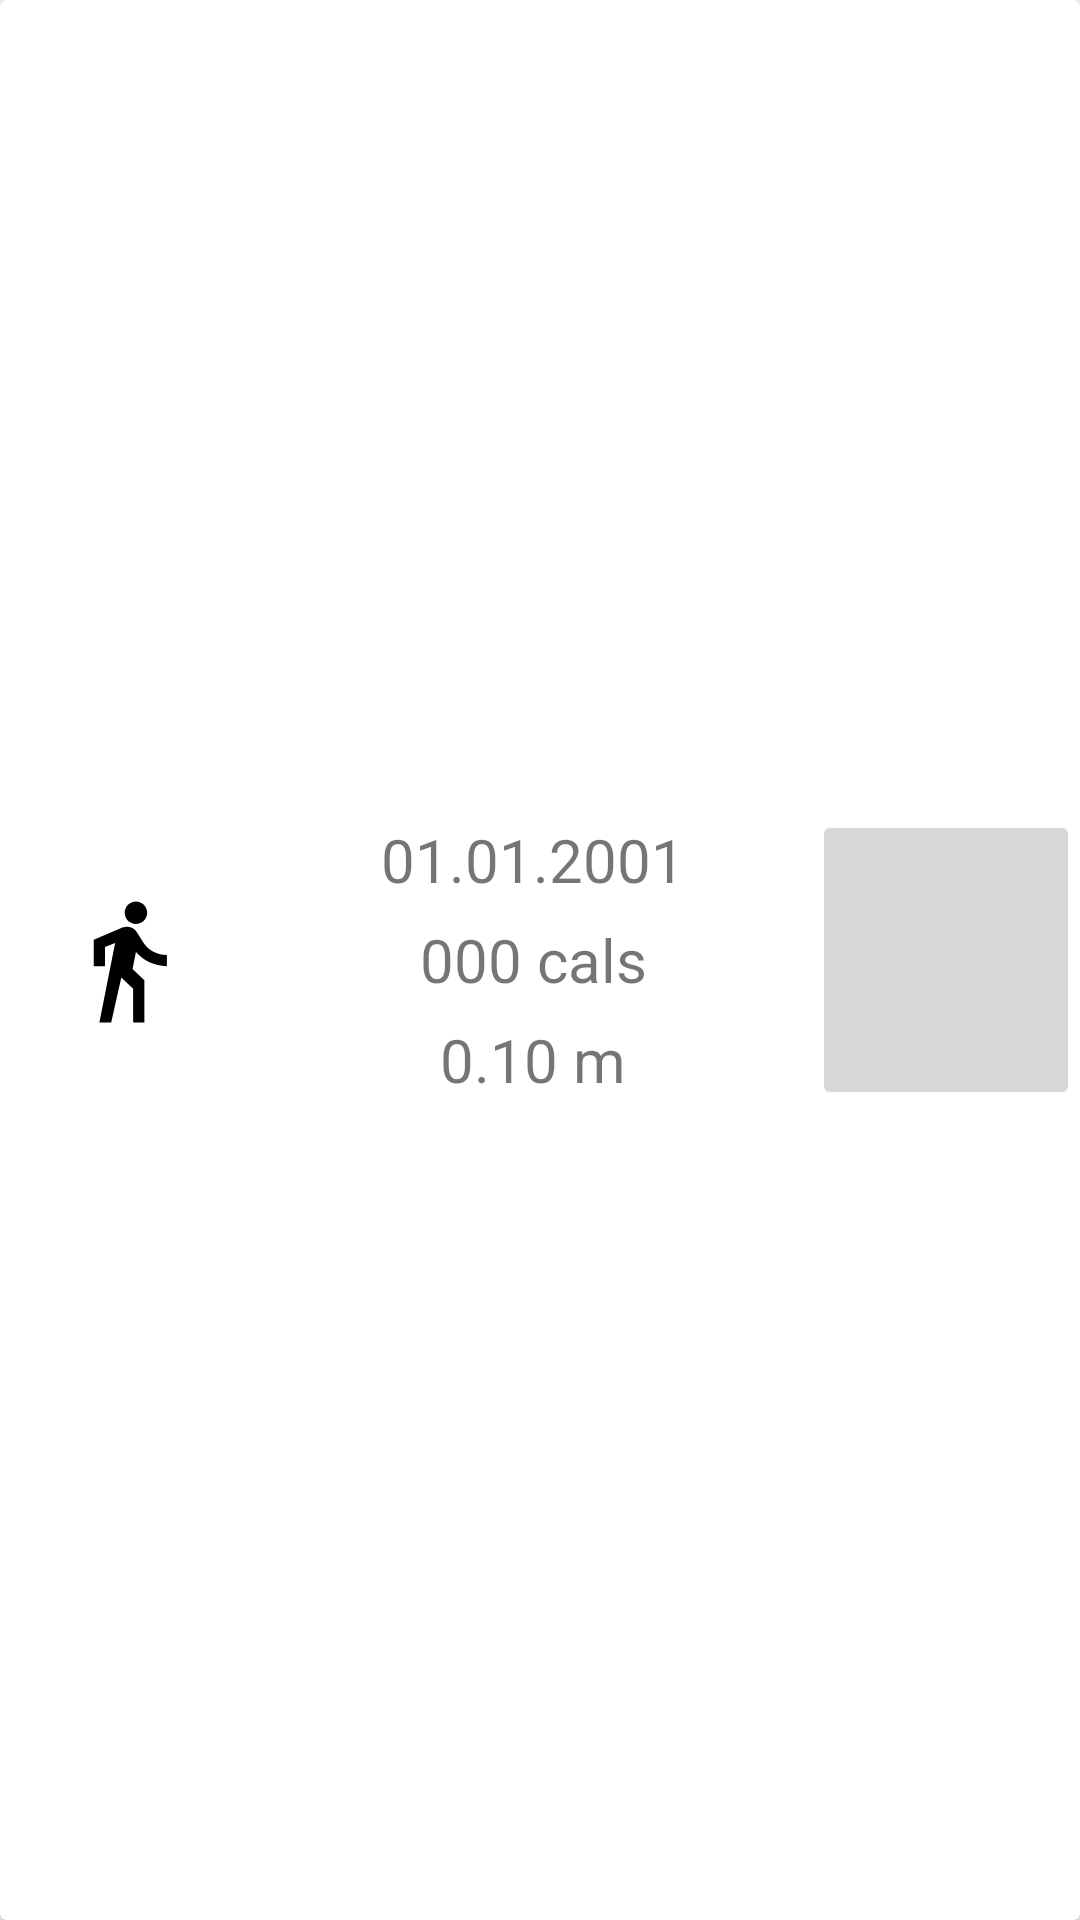

Screen size 1080w x 1920h. Icon name, then its center in pixels as [x,y]:
directions walk: [130,962]
